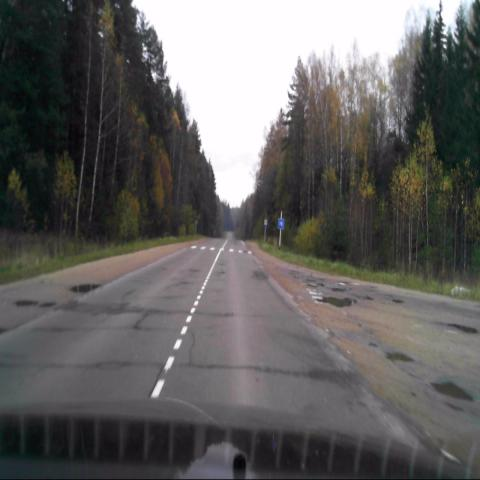6_2: (278, 218, 284, 229)
